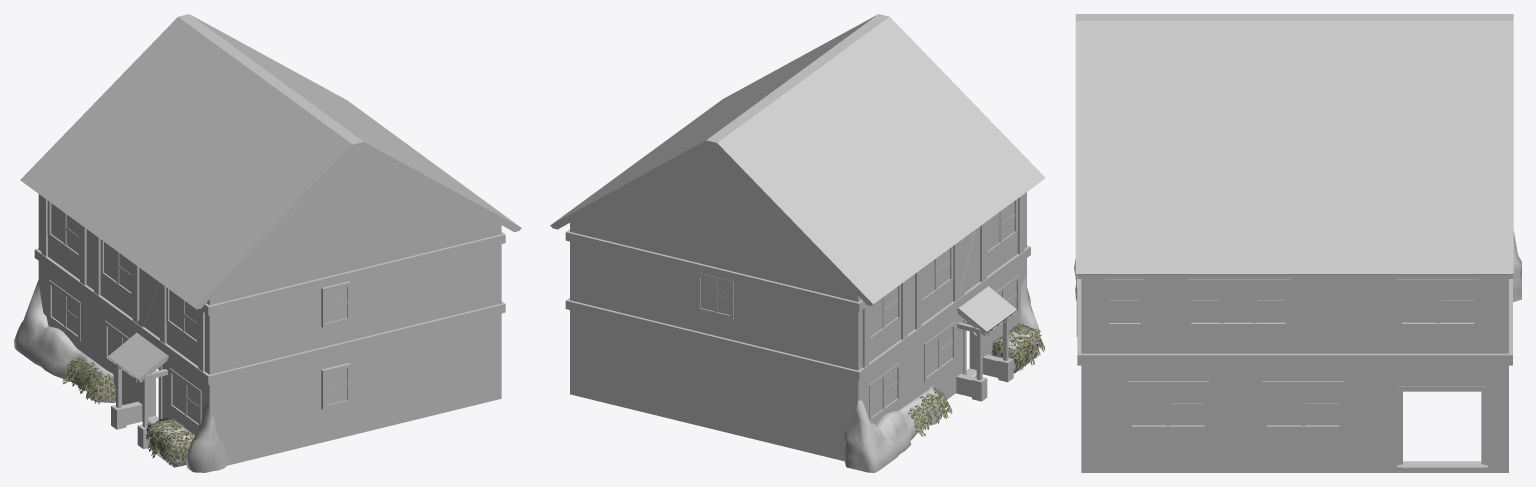
File: HouseTrapMenu.obj
The picture shows the model from 3 angles, left to right: view 1: azimuth 30°, elevation 25°; view 2: azimuth 150°, elevation 25°; view 3: azimuth 270°, elevation 25°; orthographic projection. The views are drawn at different scales.
Visible parts, largest first — view 1: 0-4_-_ExteriorRoof.006_Cube.147, 0-2_-_ExteriorÚpper.006_Cube.151, 0-1_-_ExteriorLower.007_Cube.152, 0-3_-_ExteriorBeams.004_Cube.150, Plane.007_Plane.008, Plane.008_Plane.009, Branch.001_Plane.011, 4-3_-_DiningRoomWindow.005_Cube.131, 1-0-0_-_HallwayFrontPorch.007_Cube.143, 10-7_-_MasterBedroomWindows.004_Cube.140, 3-5_-_KitchenWindow.005_Cube.135, Plane.006_Plane.007 (+2 smaller); view 2: 0-4_-_ExteriorRoof.006_Cube.147, 0-2_-_ExteriorÚpper.006_Cube.151, 0-1_-_ExteriorLower.007_Cube.152, 0-3_-_ExteriorBeams.004_Cube.150, Plane.007_Plane.008, Plane.008_Plane.009, Branch.001_Plane.011, 1-0-0_-_HallwayFrontPorch.007_Cube.143, 6-4_-_Bedroom1Window.005_Cube.124, 3-5_-_KitchenWindow.005_Cube.135, 5-3_-_DowntairsToiletWindow.005_Cube.130, Plane.006_Plane.007 (+2 smaller); view 3: 0-4_-_ExteriorRoof.006_Cube.147, 0-1_-_ExteriorLower.007_Cube.152, 0-2_-_ExteriorÚpper.006_Cube.151, Plane.007_Plane.008, 0-3_-_ExteriorBeams.004_Cube.150, 2-5_-_LivingRoomWindows.002_Cube.136, 10-7_-_MasterBedroomWindows.004_Cube.140, 3-7_-_KitchenBackDoor.002_Cube.133, 6-4_-_Bedroom1Window.006_Cube.127, Plane.008_Plane.009.
Part boxes in pixels (left/top/right/bottom): 0-4_-_ExteriorRoof.006_Cube.147: left=20, top=14, right=521, bottom=380; 0-2_-_ExteriorÚpper.006_Cube.151: left=38, top=146, right=501, bottom=374; 0-1_-_ExteriorLower.007_Cube.152: left=38, top=261, right=501, bottom=465; 0-3_-_ExteriorBeams.004_Cube.150: left=34, top=196, right=505, bottom=384; Plane.007_Plane.008: left=51, top=203, right=346, bottom=423; Plane.008_Plane.009: left=14, top=280, right=227, bottom=472; Branch.001_Plane.011: left=62, top=357, right=195, bottom=466; 4-3_-_DiningRoomWindow.005_Cube.131: left=169, top=363, right=350, bottom=428; 1-0-0_-_HallwayFrontPorch.007_Cube.143: left=112, top=358, right=167, bottom=427; 10-7_-_MasterBedroomWindows.004_Cube.140: left=321, top=281, right=350, bottom=327; 3-5_-_KitchenWindow.005_Cube.135: left=48, top=279, right=80, bottom=341; Plane.006_Plane.007: left=151, top=419, right=193, bottom=467; 0-4_-_ExteriorRoof.006_Cube.147: left=550, top=14, right=1045, bottom=333; 0-2_-_ExteriorÚpper.006_Cube.151: left=570, top=145, right=1026, bottom=370; 0-1_-_ExteriorLower.007_Cube.152: left=570, top=258, right=1026, bottom=461; 0-3_-_ExteriorBeams.004_Cube.150: left=565, top=194, right=1030, bottom=380; Plane.007_Plane.008: left=700, top=201, right=1016, bottom=416; Plane.008_Plane.009: left=843, top=276, right=1039, bottom=472; Branch.001_Plane.011: left=907, top=323, right=1045, bottom=436; 1-0-0_-_HallwayFrontPorch.007_Cube.143: left=957, top=311, right=1012, bottom=380; 6-4_-_Bedroom1Window.005_Cube.124: left=696, top=272, right=733, bottom=319; 3-5_-_KitchenWindow.005_Cube.135: left=869, top=362, right=900, bottom=421; 5-3_-_DowntairsToiletWindow.005_Cube.130: left=924, top=321, right=955, bottom=382; Plane.006_Plane.007: left=992, top=326, right=1037, bottom=373; 0-4_-_ExteriorRoof.006_Cube.147: left=1075, top=14, right=1513, bottom=274; 0-1_-_ExteriorLower.007_Cube.152: left=1081, top=365, right=1508, bottom=472; 0-2_-_ExteriorÚpper.006_Cube.151: left=1081, top=279, right=1508, bottom=353; Plane.007_Plane.008: left=1109, top=283, right=1474, bottom=425; 0-3_-_ExteriorBeams.004_Cube.150: left=1077, top=275, right=1512, bottom=365; 2-5_-_LivingRoomWindows.002_Cube.136: left=1127, top=381, right=1344, bottom=430; 10-7_-_MasterBedroomWindows.004_Cube.140: left=1104, top=279, right=1290, bottom=327; 3-7_-_KitchenBackDoor.002_Cube.133: left=1396, top=386, right=1487, bottom=469; 6-4_-_Bedroom1Window.006_Cube.127: left=1397, top=279, right=1479, bottom=327; Plane.008_Plane.009: left=1074, top=231, right=1521, bottom=302.
Bounding box in the file's own units: 13.8 × 11.34 × 12.46.
